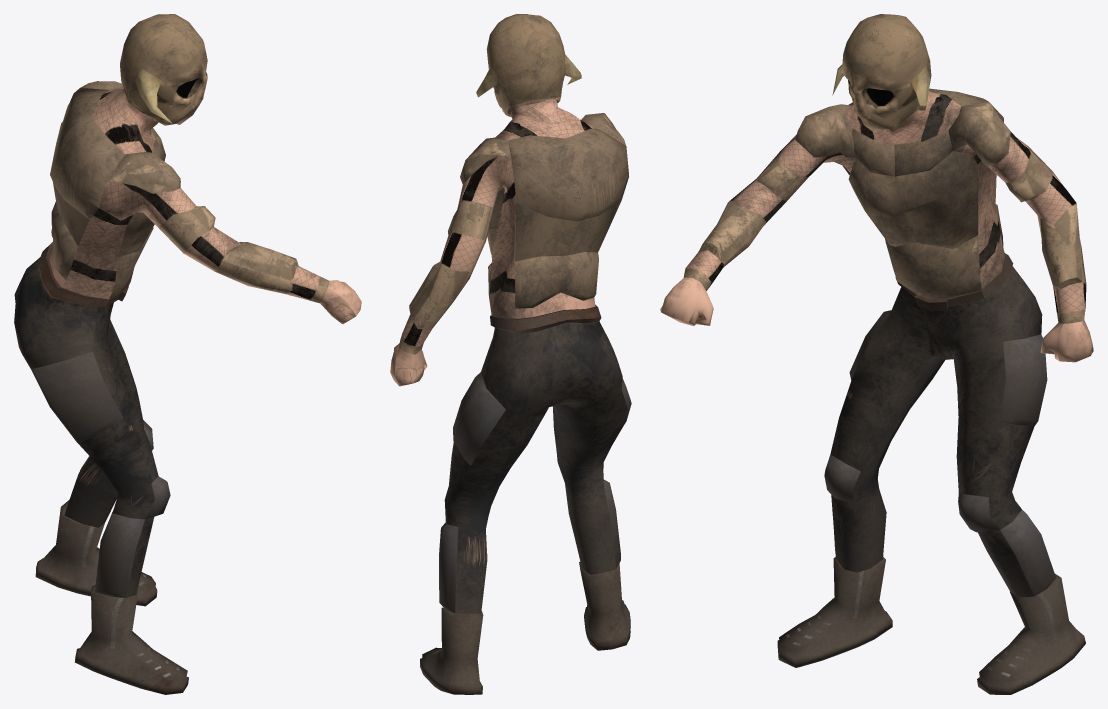
File: Anim_interruptor_npc1.0028.obj
3 views of the same model, side by side, from view 1: azimuth 30°, elevation 25°; view 2: azimuth 150°, elevation 25°; view 3: azimuth 270°, elevation 25° (orthographic). The views are drawn at different scales.
Parts seen in each view (by area): view 1: NPC2; view 2: NPC2; view 3: NPC2.
Boxes of the visible parts, left/top/right/bottom form: NPC2: left=14, top=14, right=361, bottom=694; NPC2: left=390, top=14, right=631, bottom=694; NPC2: left=660, top=14, right=1093, bottom=694.
Bounding box in the file's own units: 3.28 × 9.11 × 5.42.
